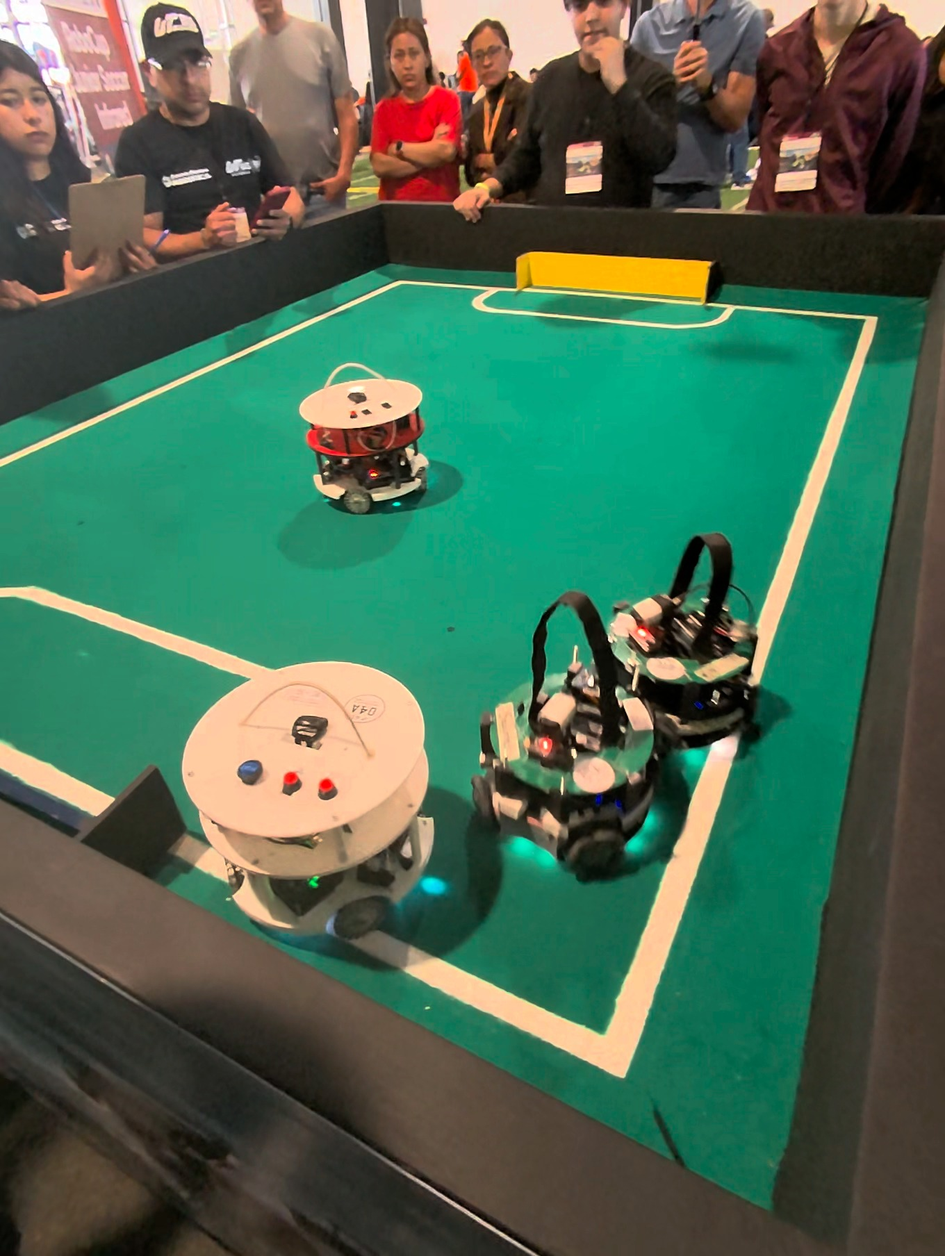Robot: (160, 644, 446, 988), (486, 570, 680, 906), (622, 507, 758, 756), (297, 347, 441, 526)
